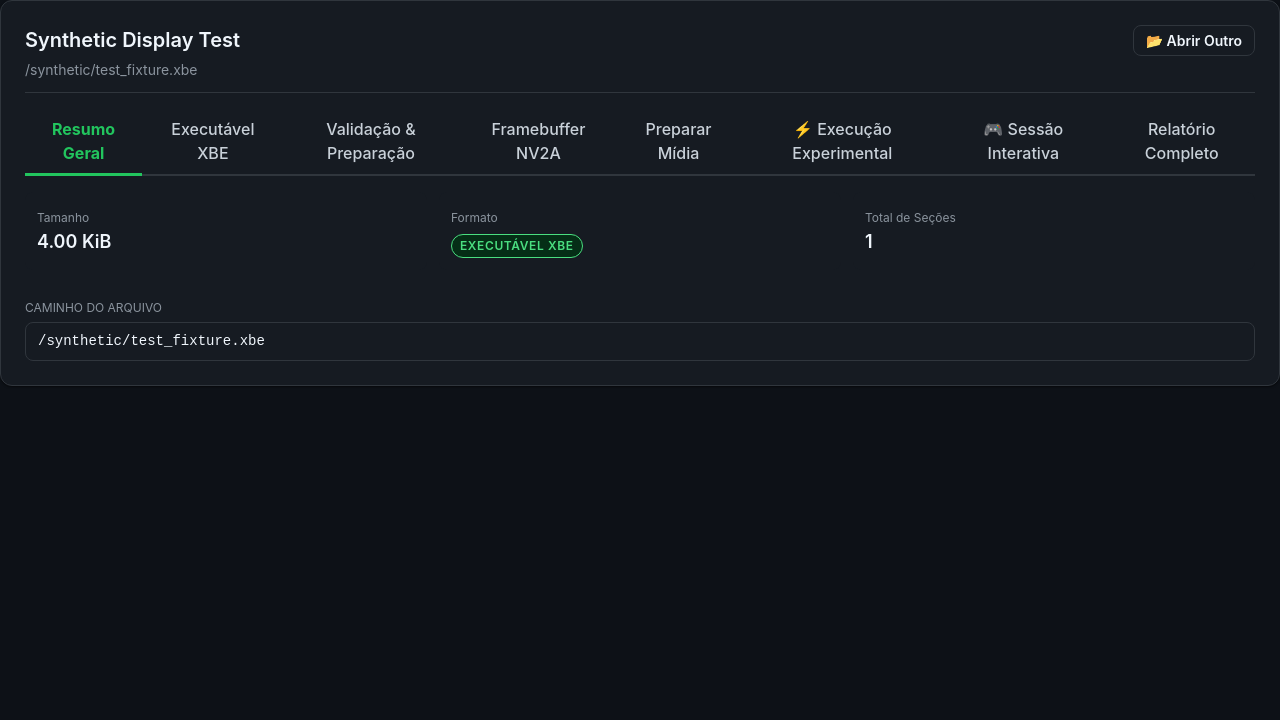
Test case: Feature Views and Accessibility › InspectionView displays active framebuffer preview for eligible synthetic media and passes axe check
Note: Prepare session
Click the tab "Validação & Preparação". click: (371,142)
box: [284,109,458,176]
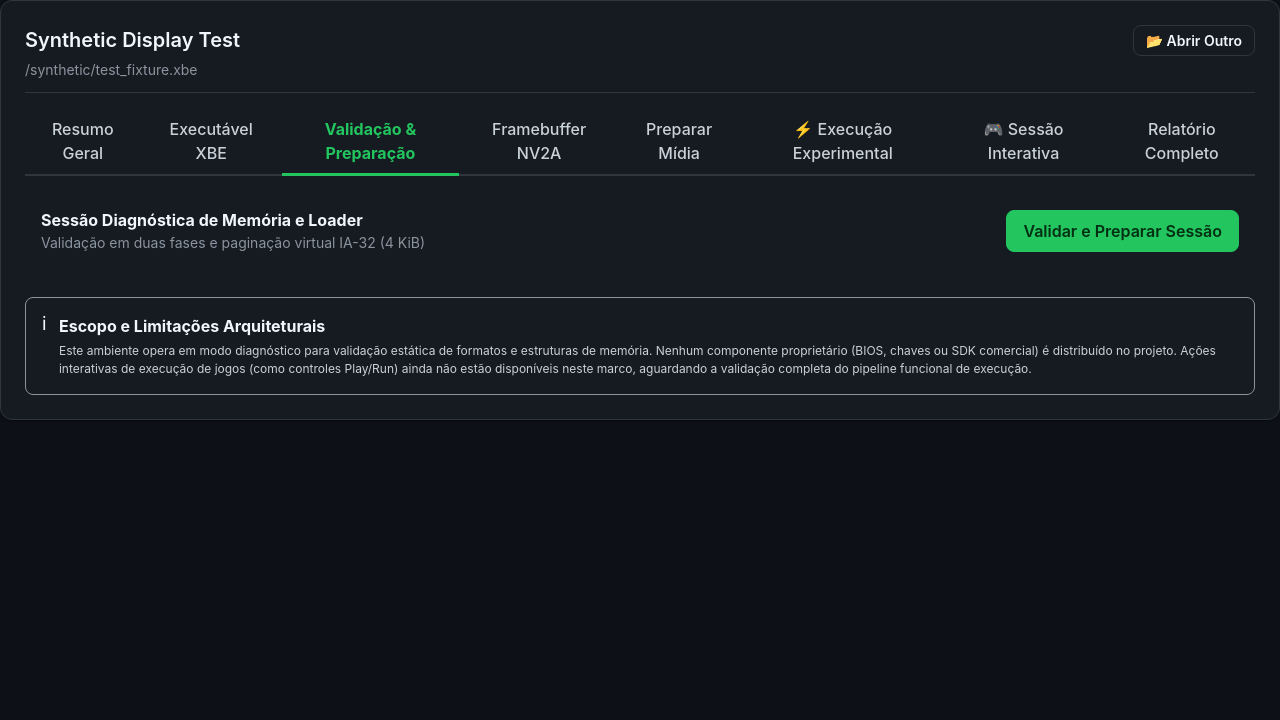
Click the button "Validar e Preparar Sessão". click: (1123,230)
box: [1006,210,1239,252]
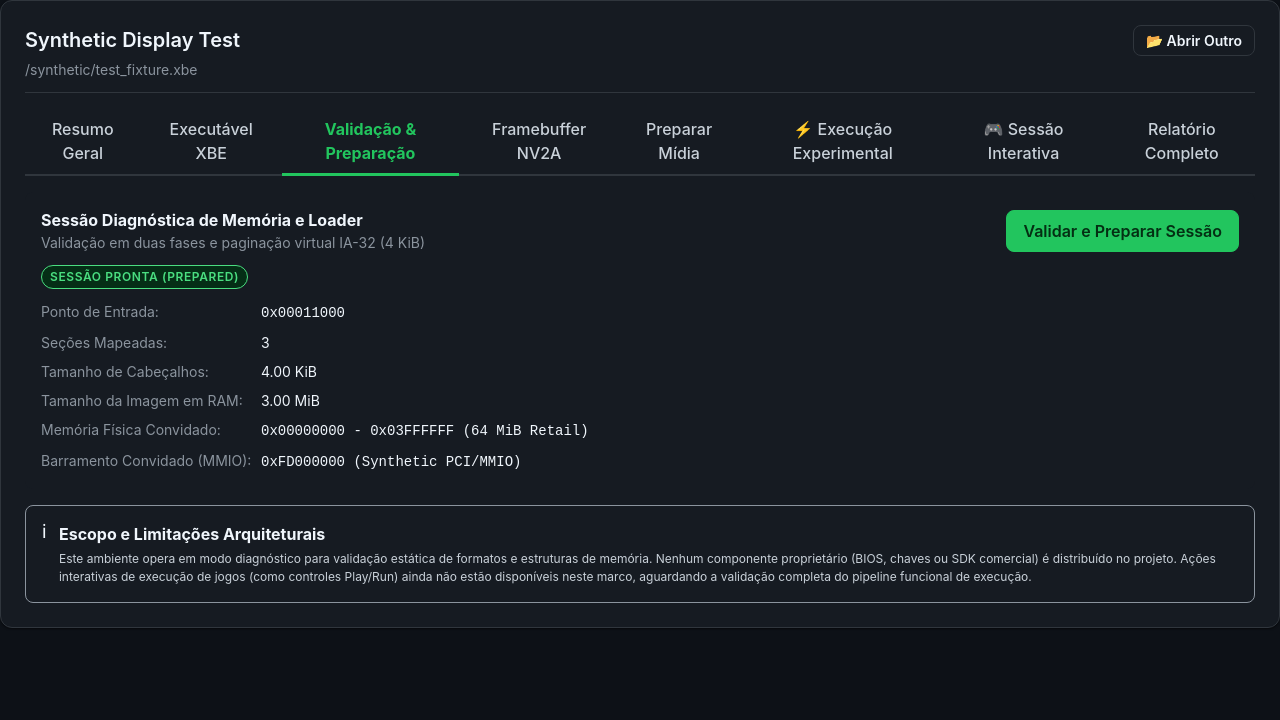
expect the text "Sessão Pronta (Prepared)" is shown: met, box [41,265,248,289]
Note: Open Framebuffer NV2A tab
Click the tab "Framebuffer NV2A". click: (539,142)
box: [467,109,611,176]
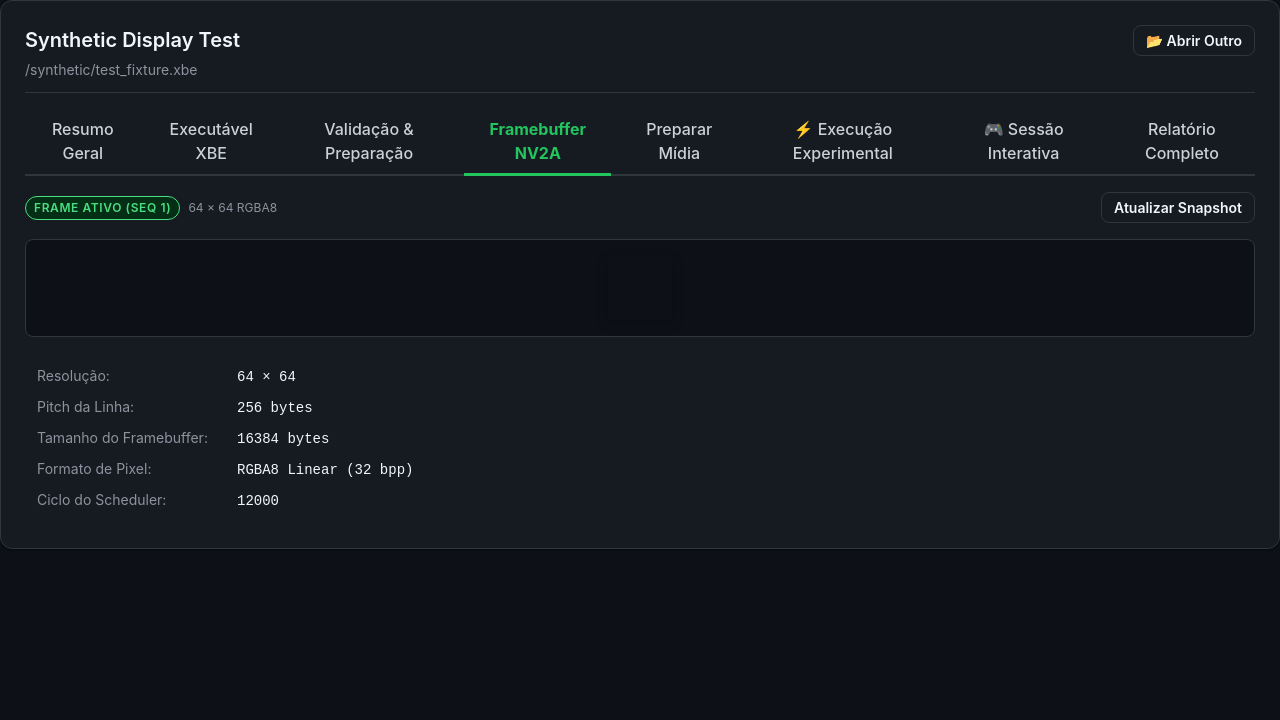
expect the text "Frame Ativo (Seq 1)" is shown: met, box [25,196,180,220]
expect the text "RGBA8 Linear (32 bpp)" is shown: met, box [237,462,413,478]
